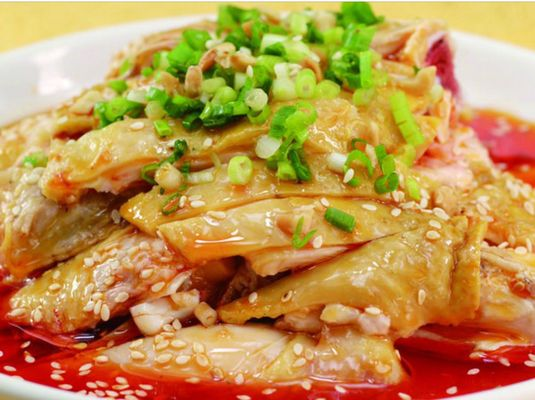sandwich: (1, 10, 530, 386)
